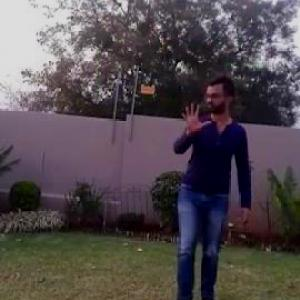follow_hand: (179, 99, 211, 135)
